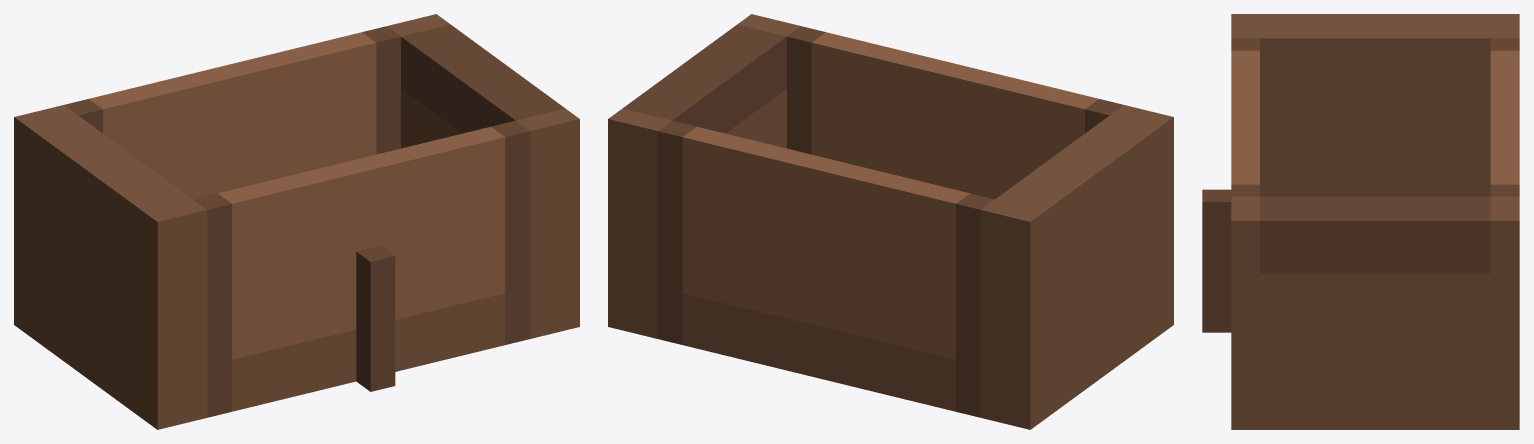
The model's file is Wood1.obj.
3 renders of one model, left to right at view 1: azimuth 30°, elevation 25°; view 2: azimuth 150°, elevation 25°; view 3: azimuth 270°, elevation 25°, orthographic.
Bounding box in the file's own units: 1.7 × 0.8 × 1.1.
1 material, 1 textured.
